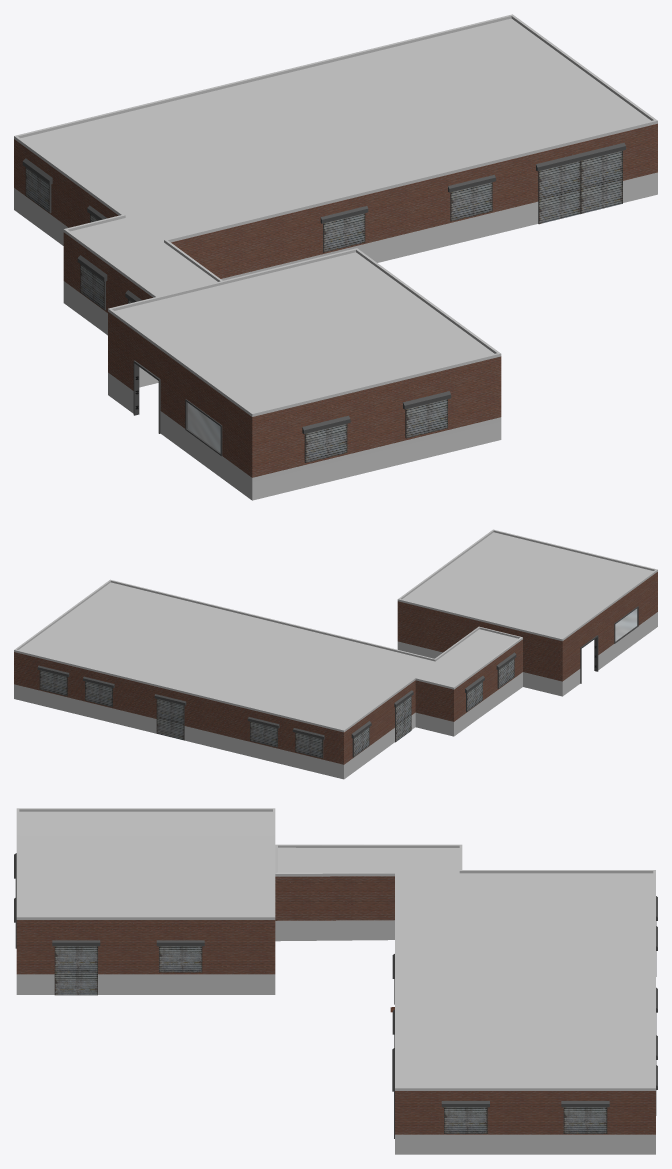
File: Exterior.FBX
The picture shows the model from 3 angles, top to bottom: view 1: azimuth 30°, elevation 25°; view 2: azimuth 150°, elevation 25°; view 3: azimuth 270°, elevation 25°; orthographic projection. The views are drawn at different scales.
Visible parts, largest first — view 1: Exterior; view 2: Exterior; view 3: Exterior.
Boxes of the visible parts, <box> form: Exterior: <box>14,14,657,500</box>; Exterior: <box>14,529,657,779</box>; Exterior: <box>14,808,657,1154</box>.
Bounding box in the file's own units: 18.23 × 2.43 × 18.27.
